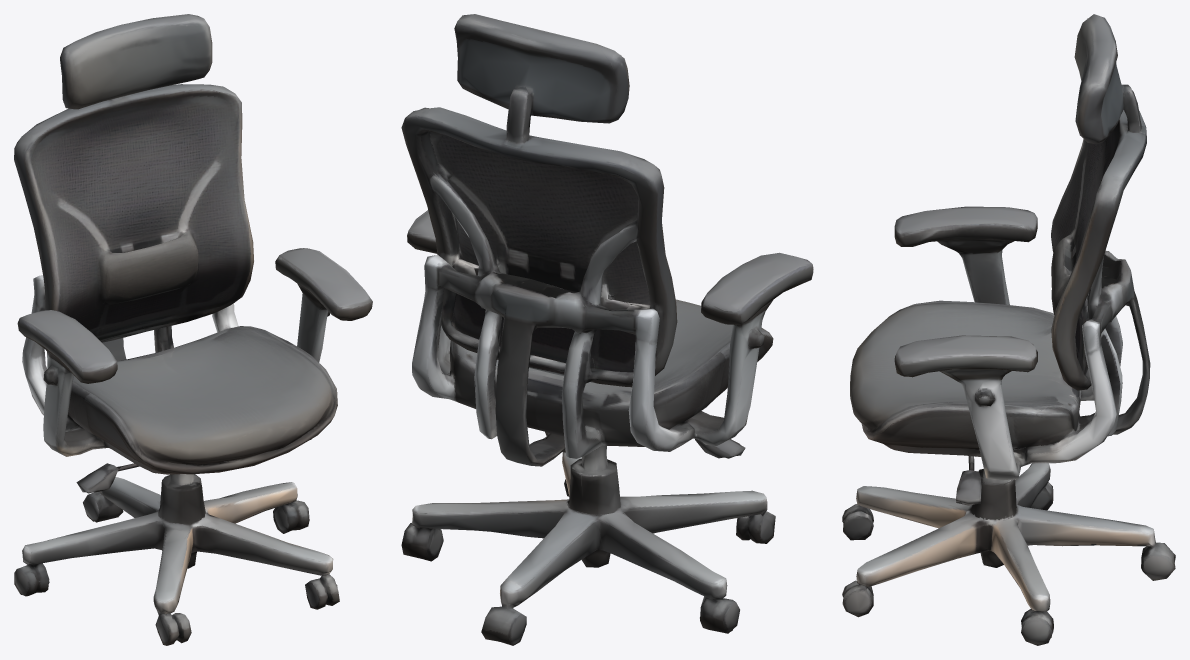
The model's file is holodeck_OfficeChair.glb.
3 views of the same model, side by side, from view 1: azimuth 30°, elevation 25°; view 2: azimuth 150°, elevation 25°; view 3: azimuth 270°, elevation 25° (orthographic). The views are drawn at different scales.
Parts seen in each view (by area): view 1: world; view 2: world; view 3: world.
Boxes of the visible parts, bbox=[...] form: world: bbox=[14, 14, 372, 645]; world: bbox=[401, 14, 813, 645]; world: bbox=[842, 14, 1175, 645].
Size of the model in its own units: 0.6028 by 0.999 by 0.568.
1 material, 1 textured.
